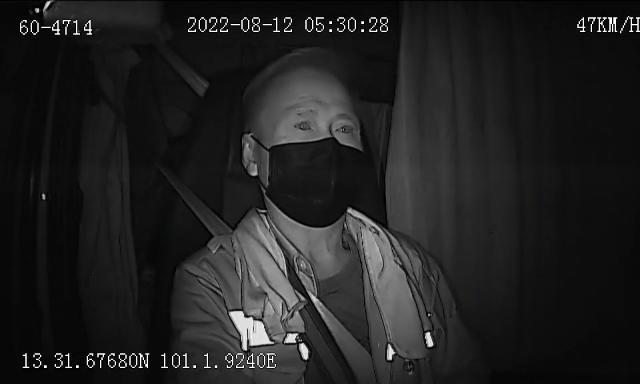SafeDriving: (329, 116, 359, 138), (290, 114, 318, 134)
Seatbelt: (165, 172, 383, 384)
